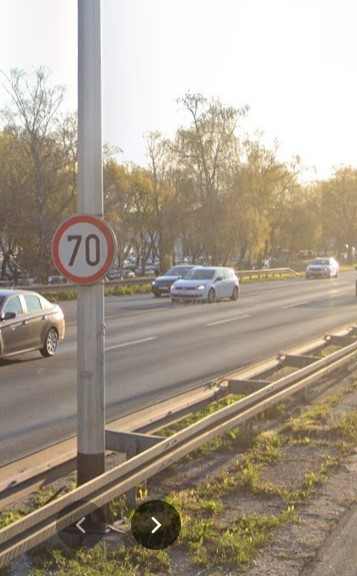Ograničenje brzine 70: (52, 214, 117, 285)
